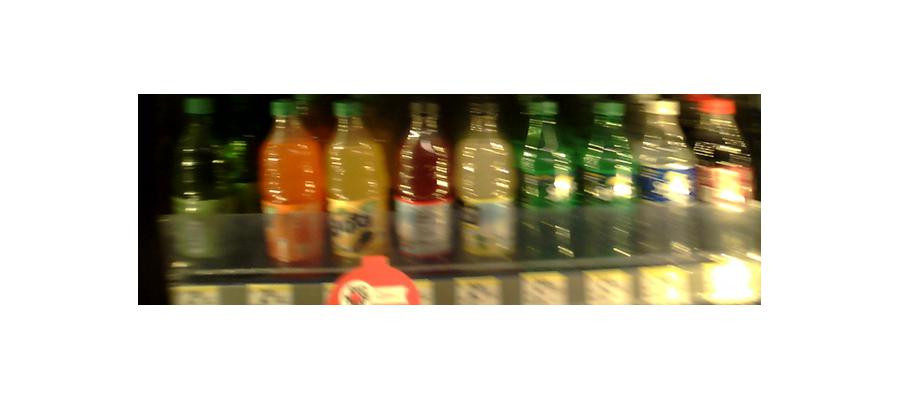bottle: (260, 95, 324, 269), (694, 88, 755, 266), (327, 101, 388, 273), (521, 96, 579, 263), (457, 103, 515, 268), (394, 108, 452, 270), (585, 102, 640, 254), (641, 98, 690, 259)
